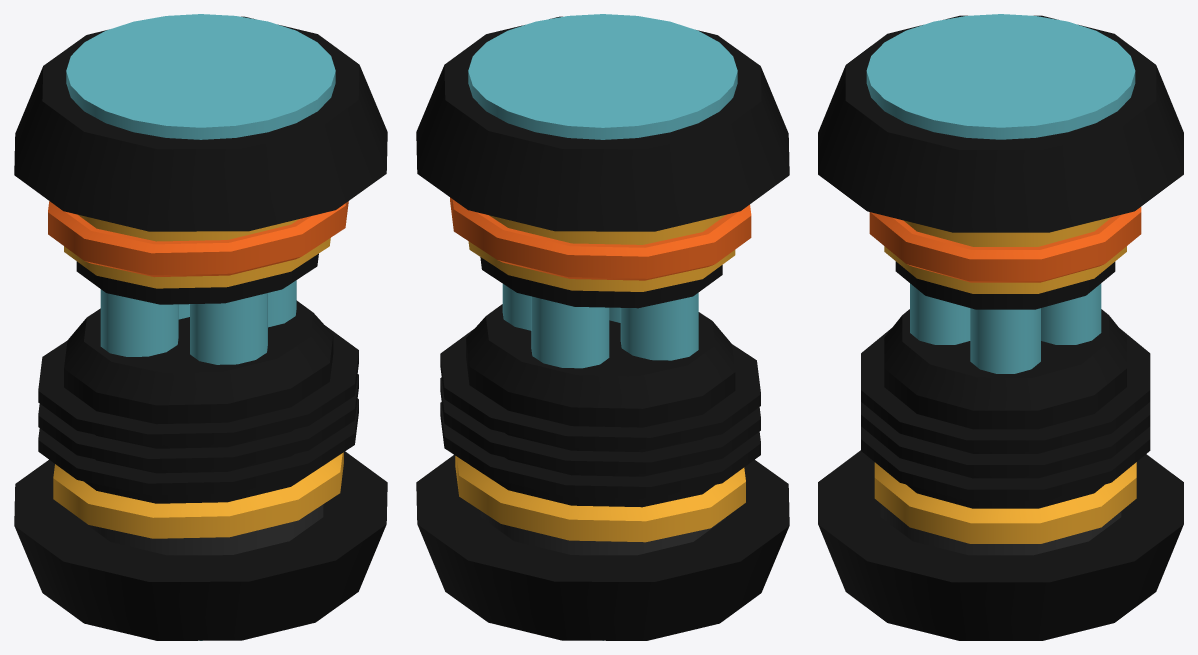
Rendered from Pico_PowerCore.glb.
3 renders of one model, left to right at view 1: azimuth 30°, elevation 25°; view 2: azimuth 150°, elevation 25°; view 3: azimuth 270°, elevation 25°, orthographic.
Visible parts, largest first — view 1: mergedBlocks(Clone); view 2: mergedBlocks(Clone); view 3: mergedBlocks(Clone).
Boxes of the visible parts, <box> form: mergedBlocks(Clone): <box>14,14,387,640</box>; mergedBlocks(Clone): <box>416,14,789,640</box>; mergedBlocks(Clone): <box>818,14,1183,640</box>.
Bounding box in the file's own units: 0.8336 × 1.26 × 0.8151.
1 material, 1 textured.
